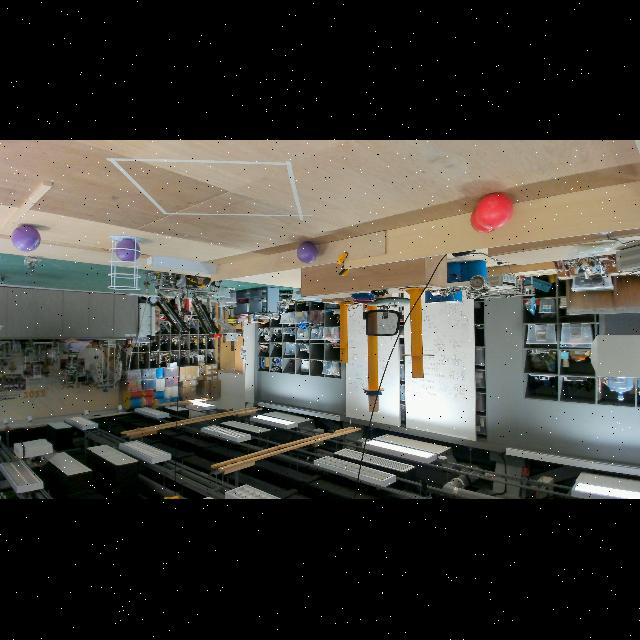P: (10, 224, 42, 252), (114, 239, 142, 263), (296, 242, 320, 264)
R: (476, 192, 514, 230), (470, 206, 500, 234)
S: (107, 235, 143, 291)
